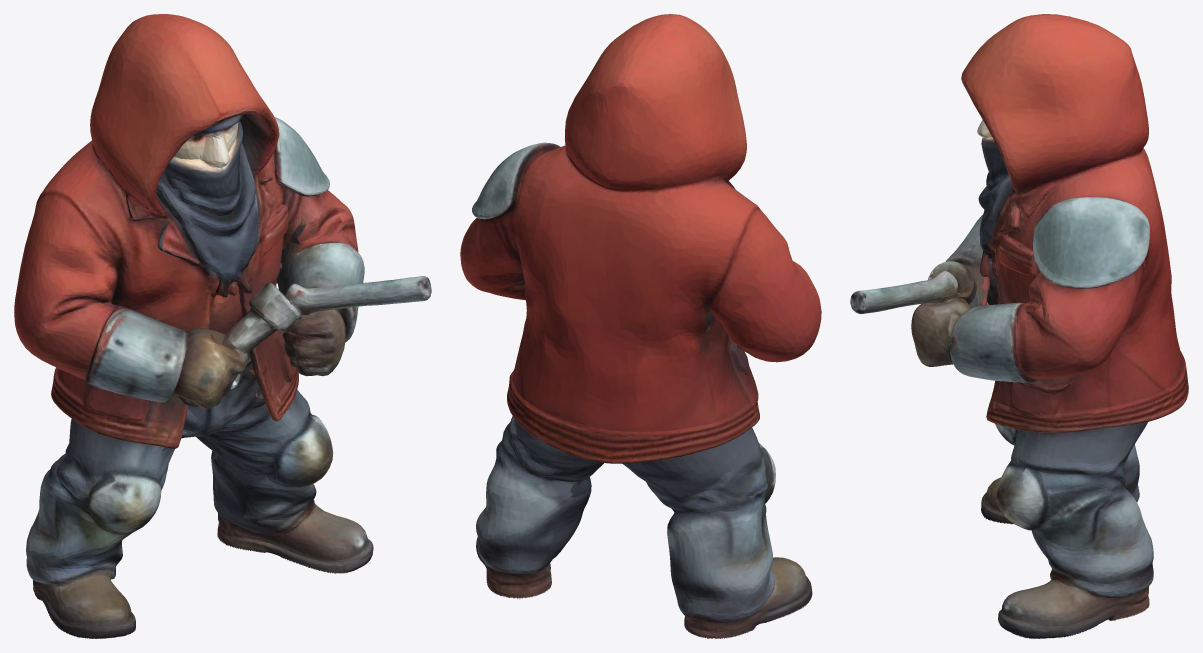
Rendered from thug-club.glb.
The picture shows the model from 3 angles, left to right: view 1: azimuth 30°, elevation 25°; view 2: azimuth 150°, elevation 25°; view 3: azimuth 270°, elevation 25°; orthographic projection. The views are drawn at different scales.
Parts seen in each view (by area): view 1: figure; view 2: figure; view 3: figure.
Part boxes in pixels (x1,y1,x2,y2): figure: [14, 14, 431, 638]; figure: [460, 14, 821, 638]; figure: [850, 14, 1188, 638].
Size of the model in its own units: 1.12 by 1.8 by 1.03.
Materials: 1 (1 with a texture image).
